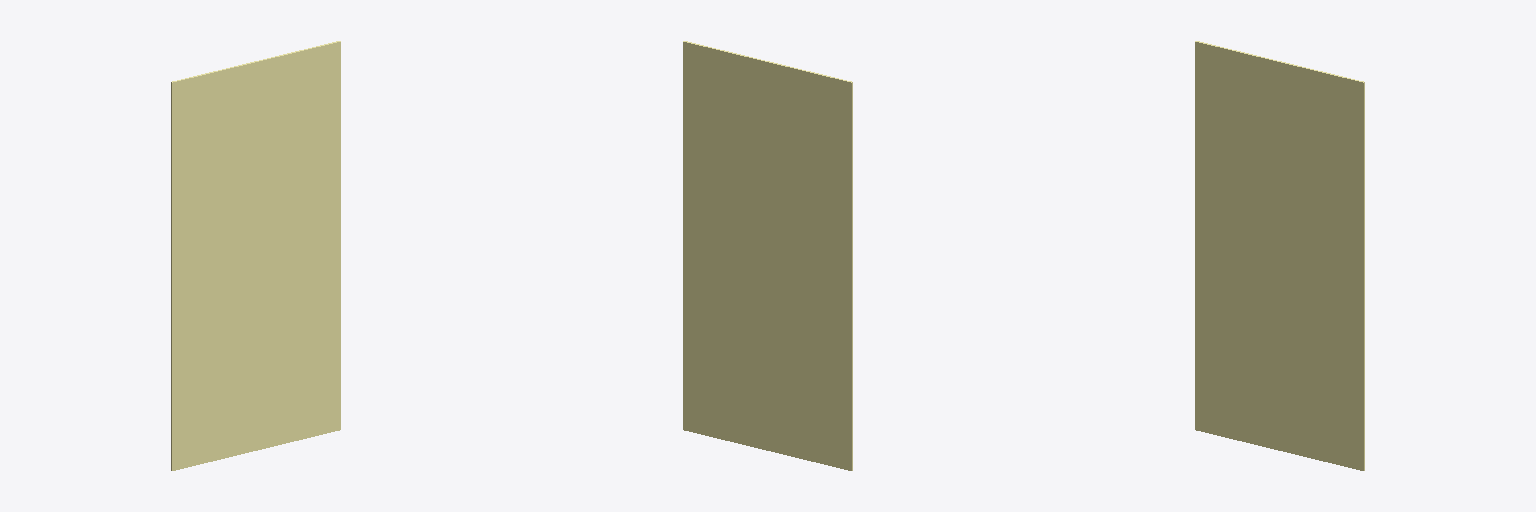
3 views of the same model, side by side, from view 1: azimuth 30°, elevation 25°; view 2: azimuth 150°, elevation 25°; view 3: azimuth 330°, elevation 25° (orthographic).
Parts seen in each view (by area): view 1: window; view 2: window; view 3: window.
Boxes of the visible parts, x1,y1,x2,y2 form: window: [171, 41, 340, 470]; window: [683, 41, 852, 470]; window: [1195, 41, 1364, 470].
Bounding box in the file's own units: 1.25 × 2.75 × 0.015.
Materials: 1 (1 with a texture image).